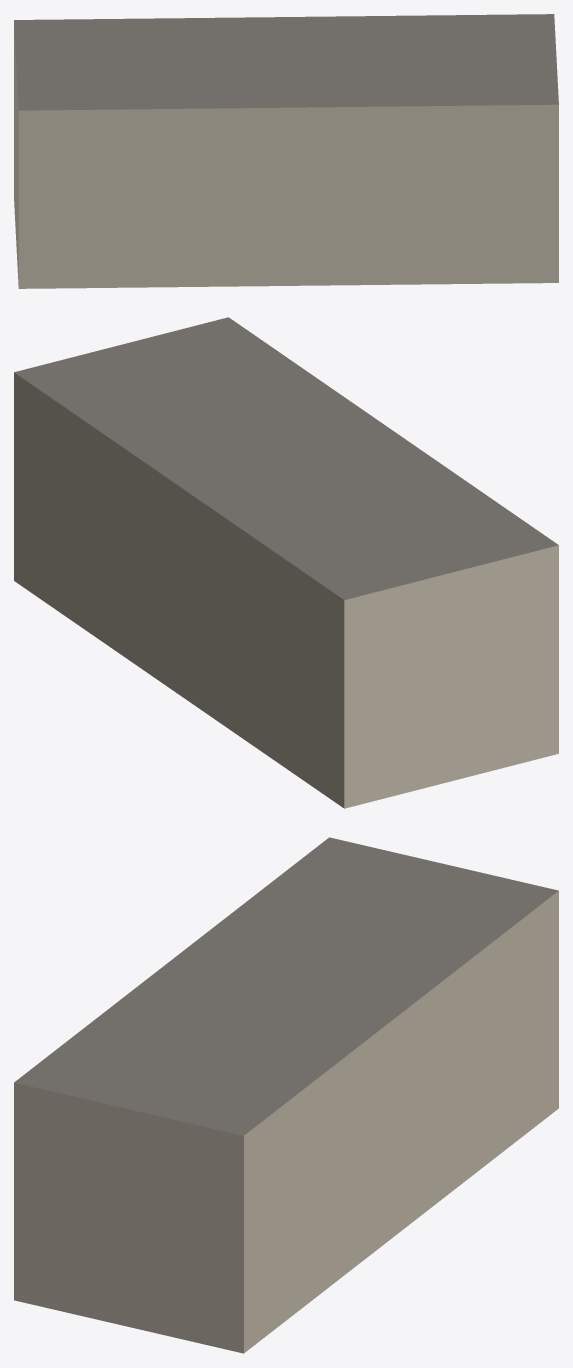
The picture shows the model from 3 angles, top to bottom: view 1: azimuth 30°, elevation 25°; view 2: azimuth 150°, elevation 25°; view 3: azimuth 270°, elevation 25°; orthographic projection. The views are drawn at different scales.
Parts seen in each view (by area): view 1: HP-w1481649280; view 2: HP-w1481649280; view 3: HP-w1481649280.
Part boxes in pixels (x1=…): HP-w1481649280: x1=14, y1=14, x2=558, y2=288; HP-w1481649280: x1=14, y1=317, x2=558, y2=808; HP-w1481649280: x1=14, y1=837, x2=558, y2=1353.
Bounding box in the file's own units: 52.91 × 18 × 40.82.
